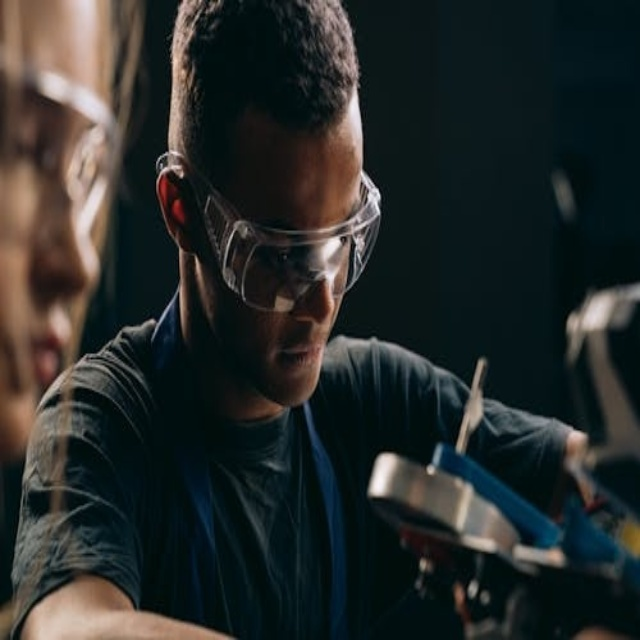Gafas: (155, 144, 383, 302), (4, 63, 111, 250)
Sin_mascara: (259, 332, 329, 402)
